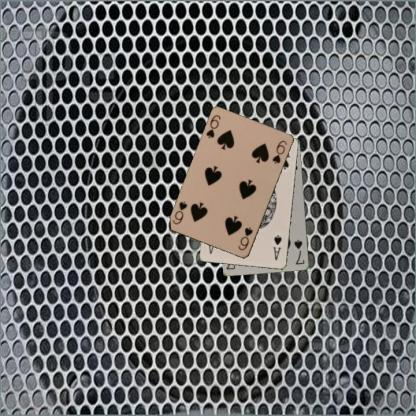6s: (203, 112, 222, 140), (236, 225, 254, 252)
7s: (291, 237, 306, 266)
As: (270, 233, 284, 262)
